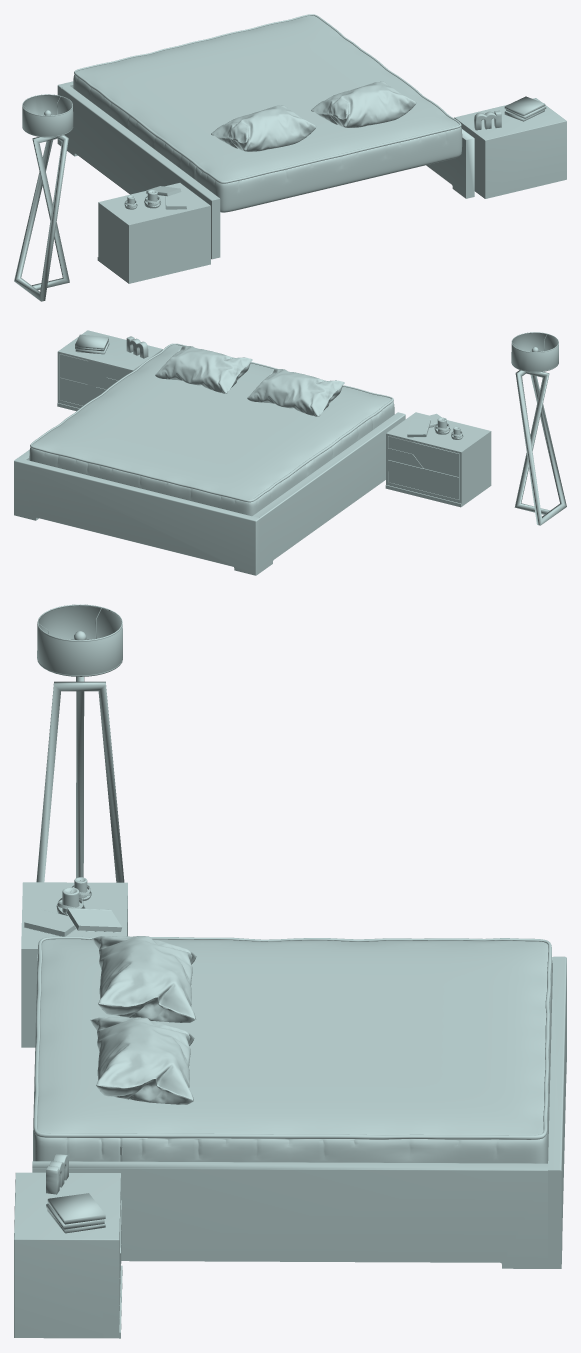
File: bed.fbx
3 renders of one model, top to bottom at view 1: azimuth 30°, elevation 25°; view 2: azimuth 150°, elevation 25°; view 3: azimuth 270°, elevation 25°, orthographic. The views are drawn at different scales.
Visible parts, largest first — view 1: Mesh5; view 2: Mesh5; view 3: Mesh5.
Part boxes in pixels (left/top/right/bottom): Mesh5: left=14, top=14, right=566, bottom=301; Mesh5: left=14, top=330, right=566, bottom=575; Mesh5: left=14, top=604, right=566, bottom=1338.
Size of the model in its own units: 1717 by 572 by 937.
